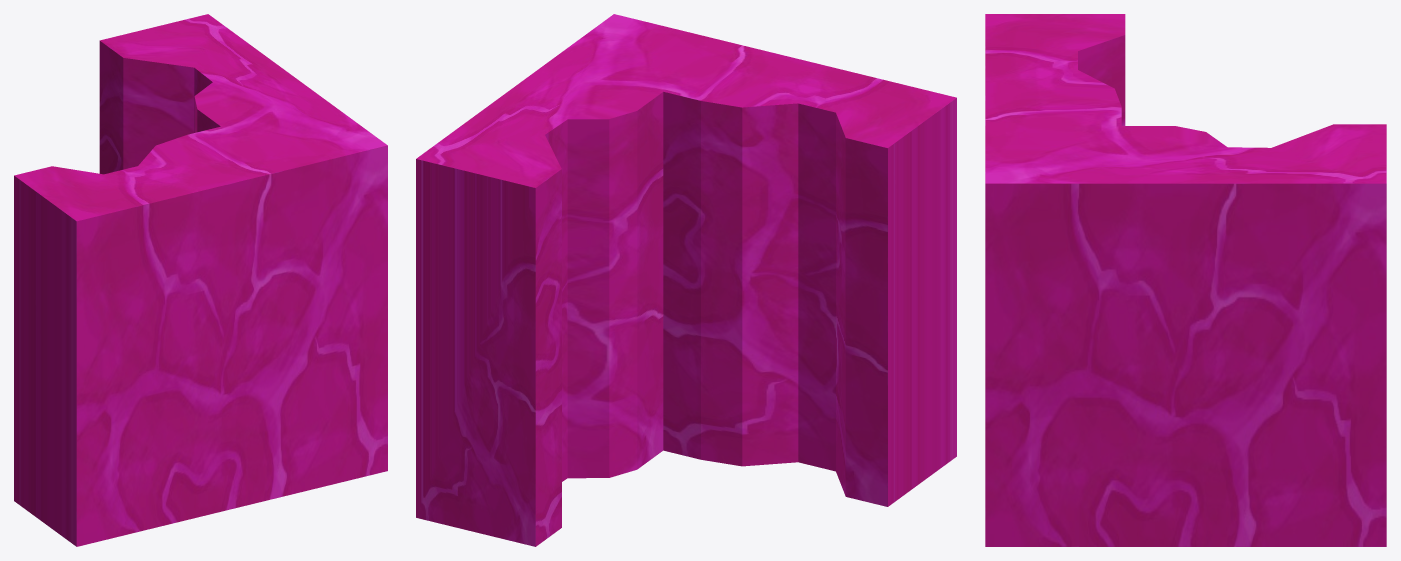
File: EspacioPornoEsquinaCierreExteriorNS.gltf
3 renders of one model, left to right at view 1: azimuth 30°, elevation 25°; view 2: azimuth 150°, elevation 25°; view 3: azimuth 270°, elevation 25°, orthographic. The views are drawn at different scales.
Parts seen in each view (by area): view 1: Cubo.22; view 2: Cubo.22; view 3: Cubo.22.
Part boxes in pixels (x1=…): Cubo.22: x1=14, y1=14, x2=387, y2=546; Cubo.22: x1=416, y1=14, x2=956, y2=546; Cubo.22: x1=985, y1=14, x2=1386, y2=546.
Bounding box in the file's own units: 2 × 2 × 2.
1 material, 1 textured.
